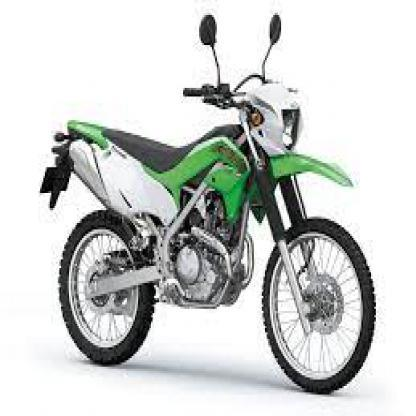Motorcycle: (40, 12, 384, 396)
